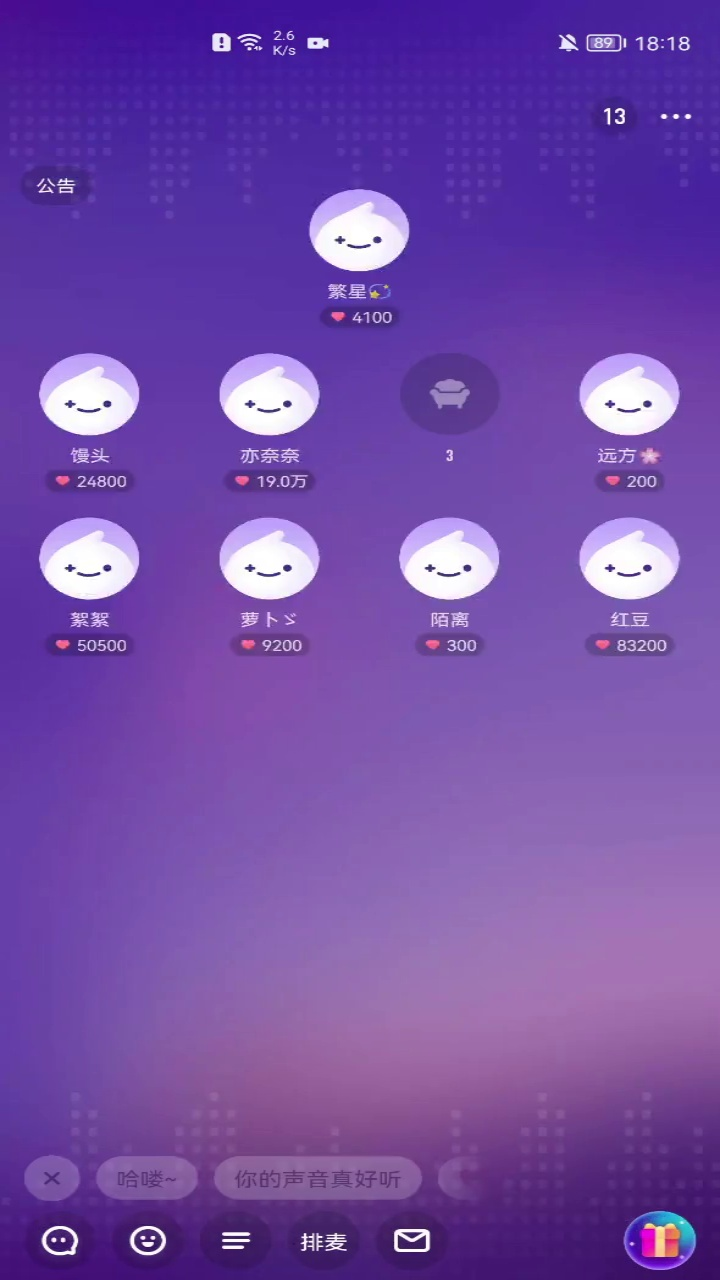avatar: (303, 182, 413, 278), (212, 346, 324, 440), (571, 512, 685, 604), (393, 512, 505, 604), (573, 348, 685, 440), (33, 349, 144, 441), (213, 514, 325, 605), (35, 513, 144, 604)
